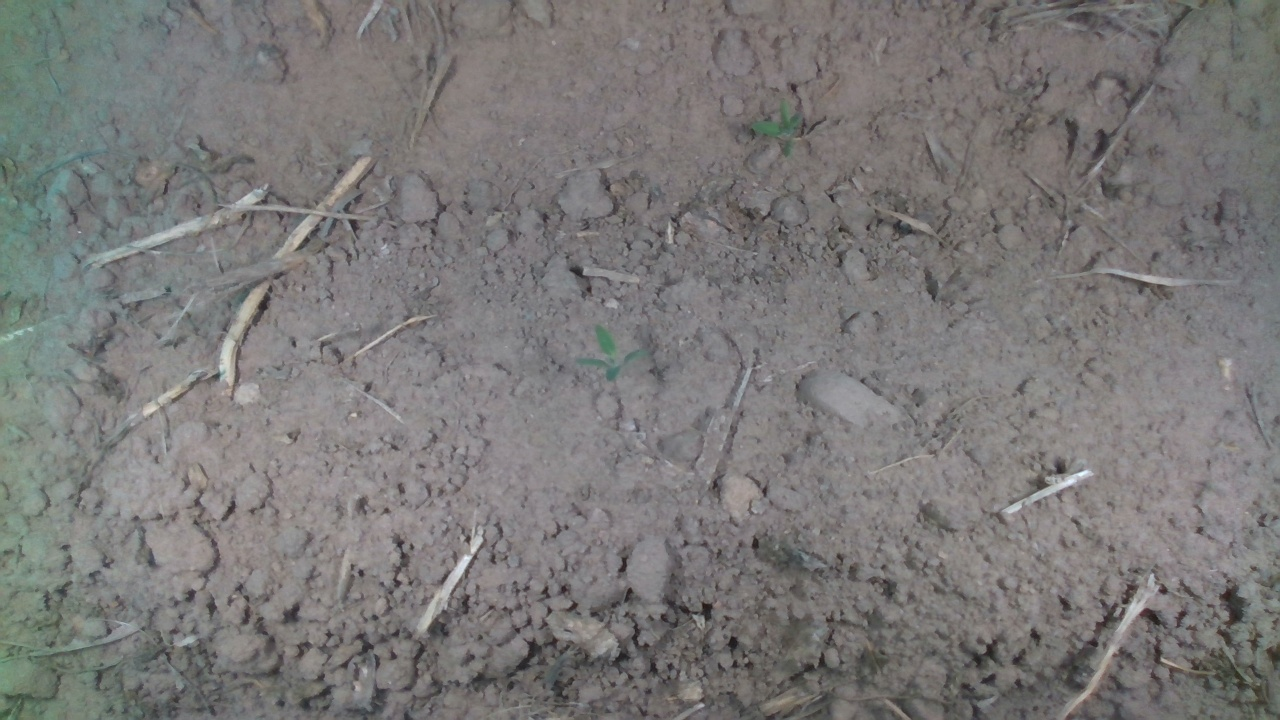weed: (568, 321, 644, 384), (745, 96, 808, 160)
